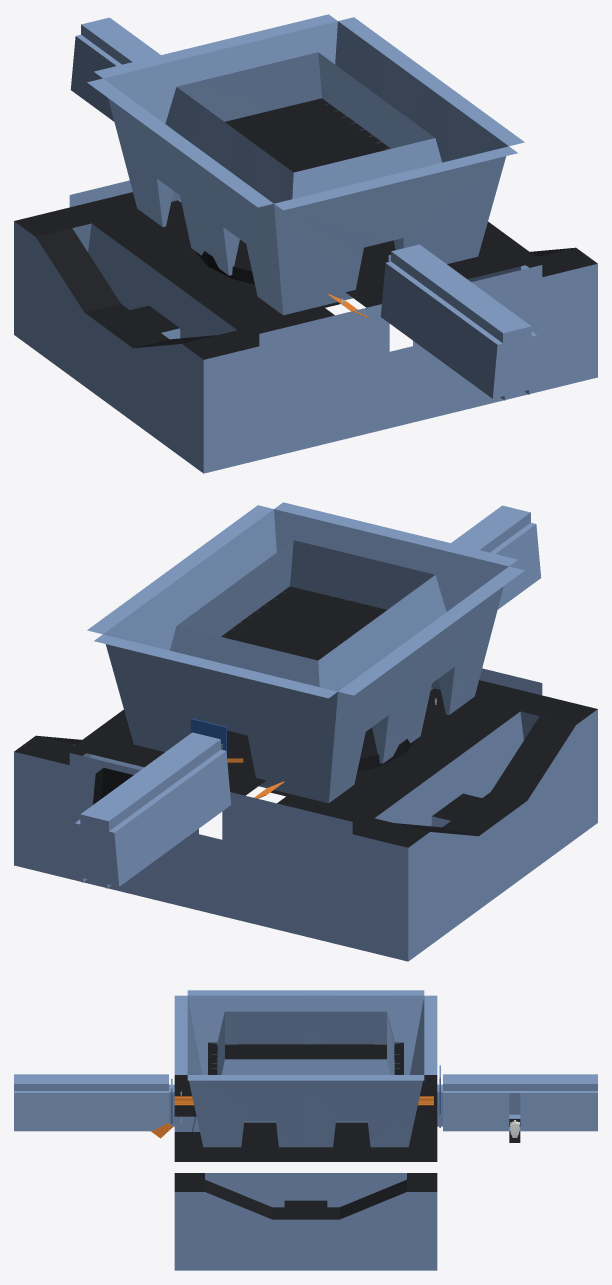
File: game_level_test_03.FBX
3 renders of one model, top to bottom at view 1: azimuth 30°, elevation 25°; view 2: azimuth 150°, elevation 25°; view 3: azimuth 270°, elevation 25°, orthographic. The views are drawn at different scales.
Visible parts, largest first — view 1: Object098, Cylinder017, Object062, Object115, Cylinder016, Object106, Object037; view 2: Object098, Cylinder017, Object106, Object115, Cylinder016, Object062, Object037; view 3: Object098, Cylinder017, Object106, Object062, Object037, Cylinder016, Object115, Object163.
Part boxes in pixels (x1,y1,x2,y2): Object098: (87, 14, 524, 315); Cylinder017: (14, 180, 597, 473); Object062: (380, 244, 541, 400); Object115: (70, 192, 383, 345); Cylinder016: (226, 100, 385, 172); Object106: (70, 17, 160, 121); Object037: (360, 221, 541, 286); Object098: (87, 502, 524, 803); Cylinder017: (14, 668, 597, 961); Object106: (70, 732, 231, 888); Object115: (236, 680, 541, 833); Cylinder016: (226, 588, 385, 660); Object062: (451, 505, 541, 609); Object037: (70, 709, 251, 768); Object098: (174, 990, 437, 1147); Cylinder017: (174, 1075, 437, 1270); Object106: (437, 1074, 597, 1142); Object062: (14, 1074, 174, 1131); Object037: (174, 1122, 437, 1161); Cylinder016: (225, 1045, 386, 1059); Object115: (174, 1077, 437, 1116); Object163: (208, 1042, 403, 1074).
Bounding box in the file's own units: 11477 × 21273 × 6779.
